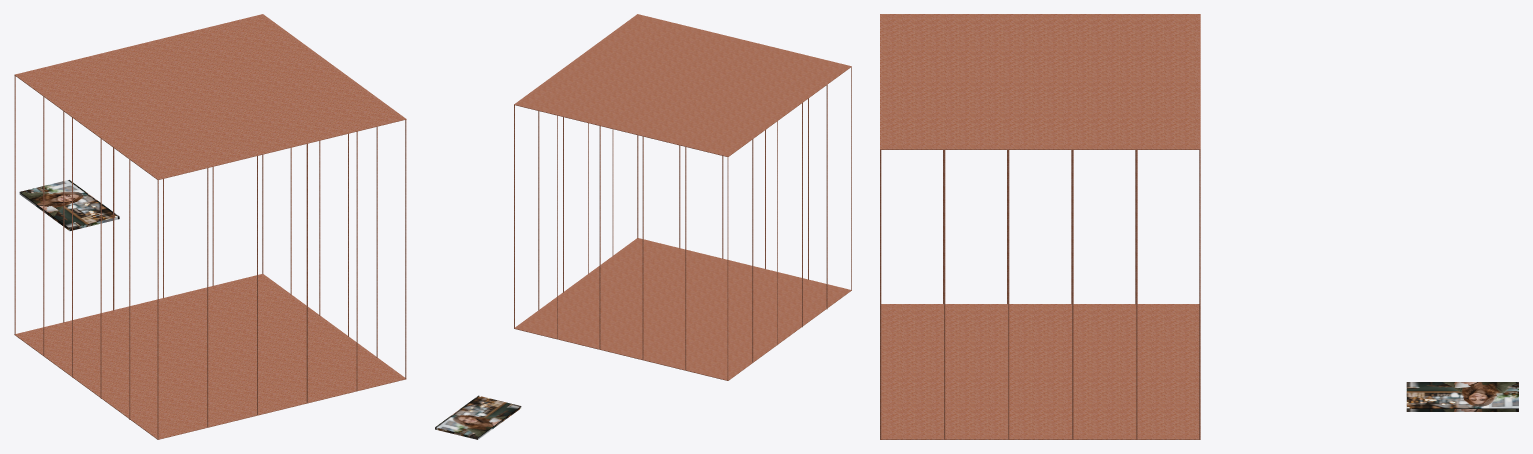
3 views of the same model, side by side, from view 1: azimuth 30°, elevation 25°; view 2: azimuth 150°, elevation 25°; view 3: azimuth 270°, elevation 25° (orthographic). The views are drawn at different scales.
Visible parts, largest first — view 1: group_1 (×2), Au_Cafe_Image, group_8, group_9, group_3, group_4, group_10, group_12, group_13, group_2, group_7, group_14 (+1 smaller); view 2: group_1 (×2), Au_Cafe_Image, group_4, group_7, group_9, group_20, group_21, group_19; view 3: group_1 (×2), Au_Cafe_Image.
Part boxes in pixels (x1,y1,x2,y2): group_1 (×2): (14, 14, 406, 439); Au_Cafe_Image: (19, 180, 119, 230); group_8: (100, 138, 101, 398); group_9: (129, 159, 130, 419); group_3: (157, 180, 158, 439); group_4: (43, 96, 44, 355); group_10: (207, 168, 208, 427); group_12: (306, 143, 307, 402); group_13: (356, 131, 357, 390); group_2: (405, 120, 406, 378); group_7: (14, 76, 15, 334); group_14: (376, 126, 377, 357); group_1 (×2): (514, 14, 851, 380); Au_Cafe_Image: (435, 395, 521, 439); group_4: (752, 139, 753, 362); group_7: (727, 157, 728, 380); group_9: (826, 85, 827, 309); group_20: (642, 136, 643, 359); group_21: (685, 146, 686, 370); group_19: (599, 126, 600, 349); group_1 (×2): (880, 14, 1200, 439); Au_Cafe_Image: (1406, 382, 1518, 411).
Bounding box in the file's own units: 394 × 785 × 395.
Materials: 3 (3 with a texture image).
